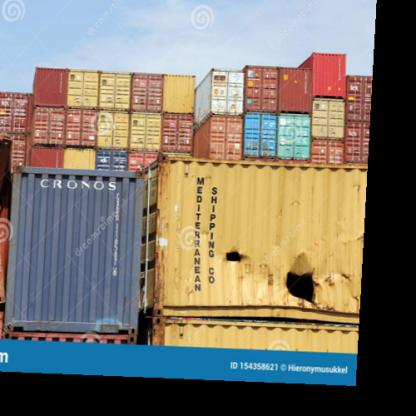Damage: (274, 253, 350, 310), (209, 229, 265, 277)
